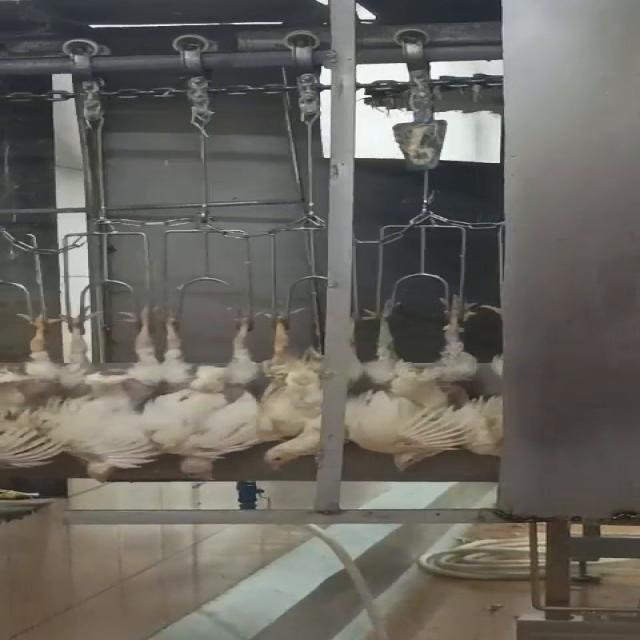chicken: (347, 297, 477, 472), (48, 304, 165, 488), (149, 302, 267, 484), (249, 306, 336, 475), (0, 310, 64, 477), (457, 292, 512, 460)
